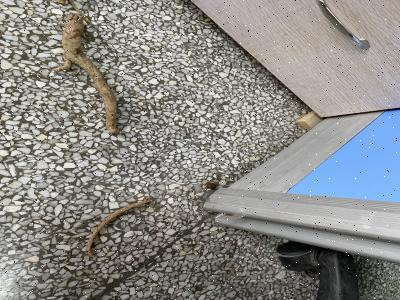Root: (54, 14, 120, 133)
